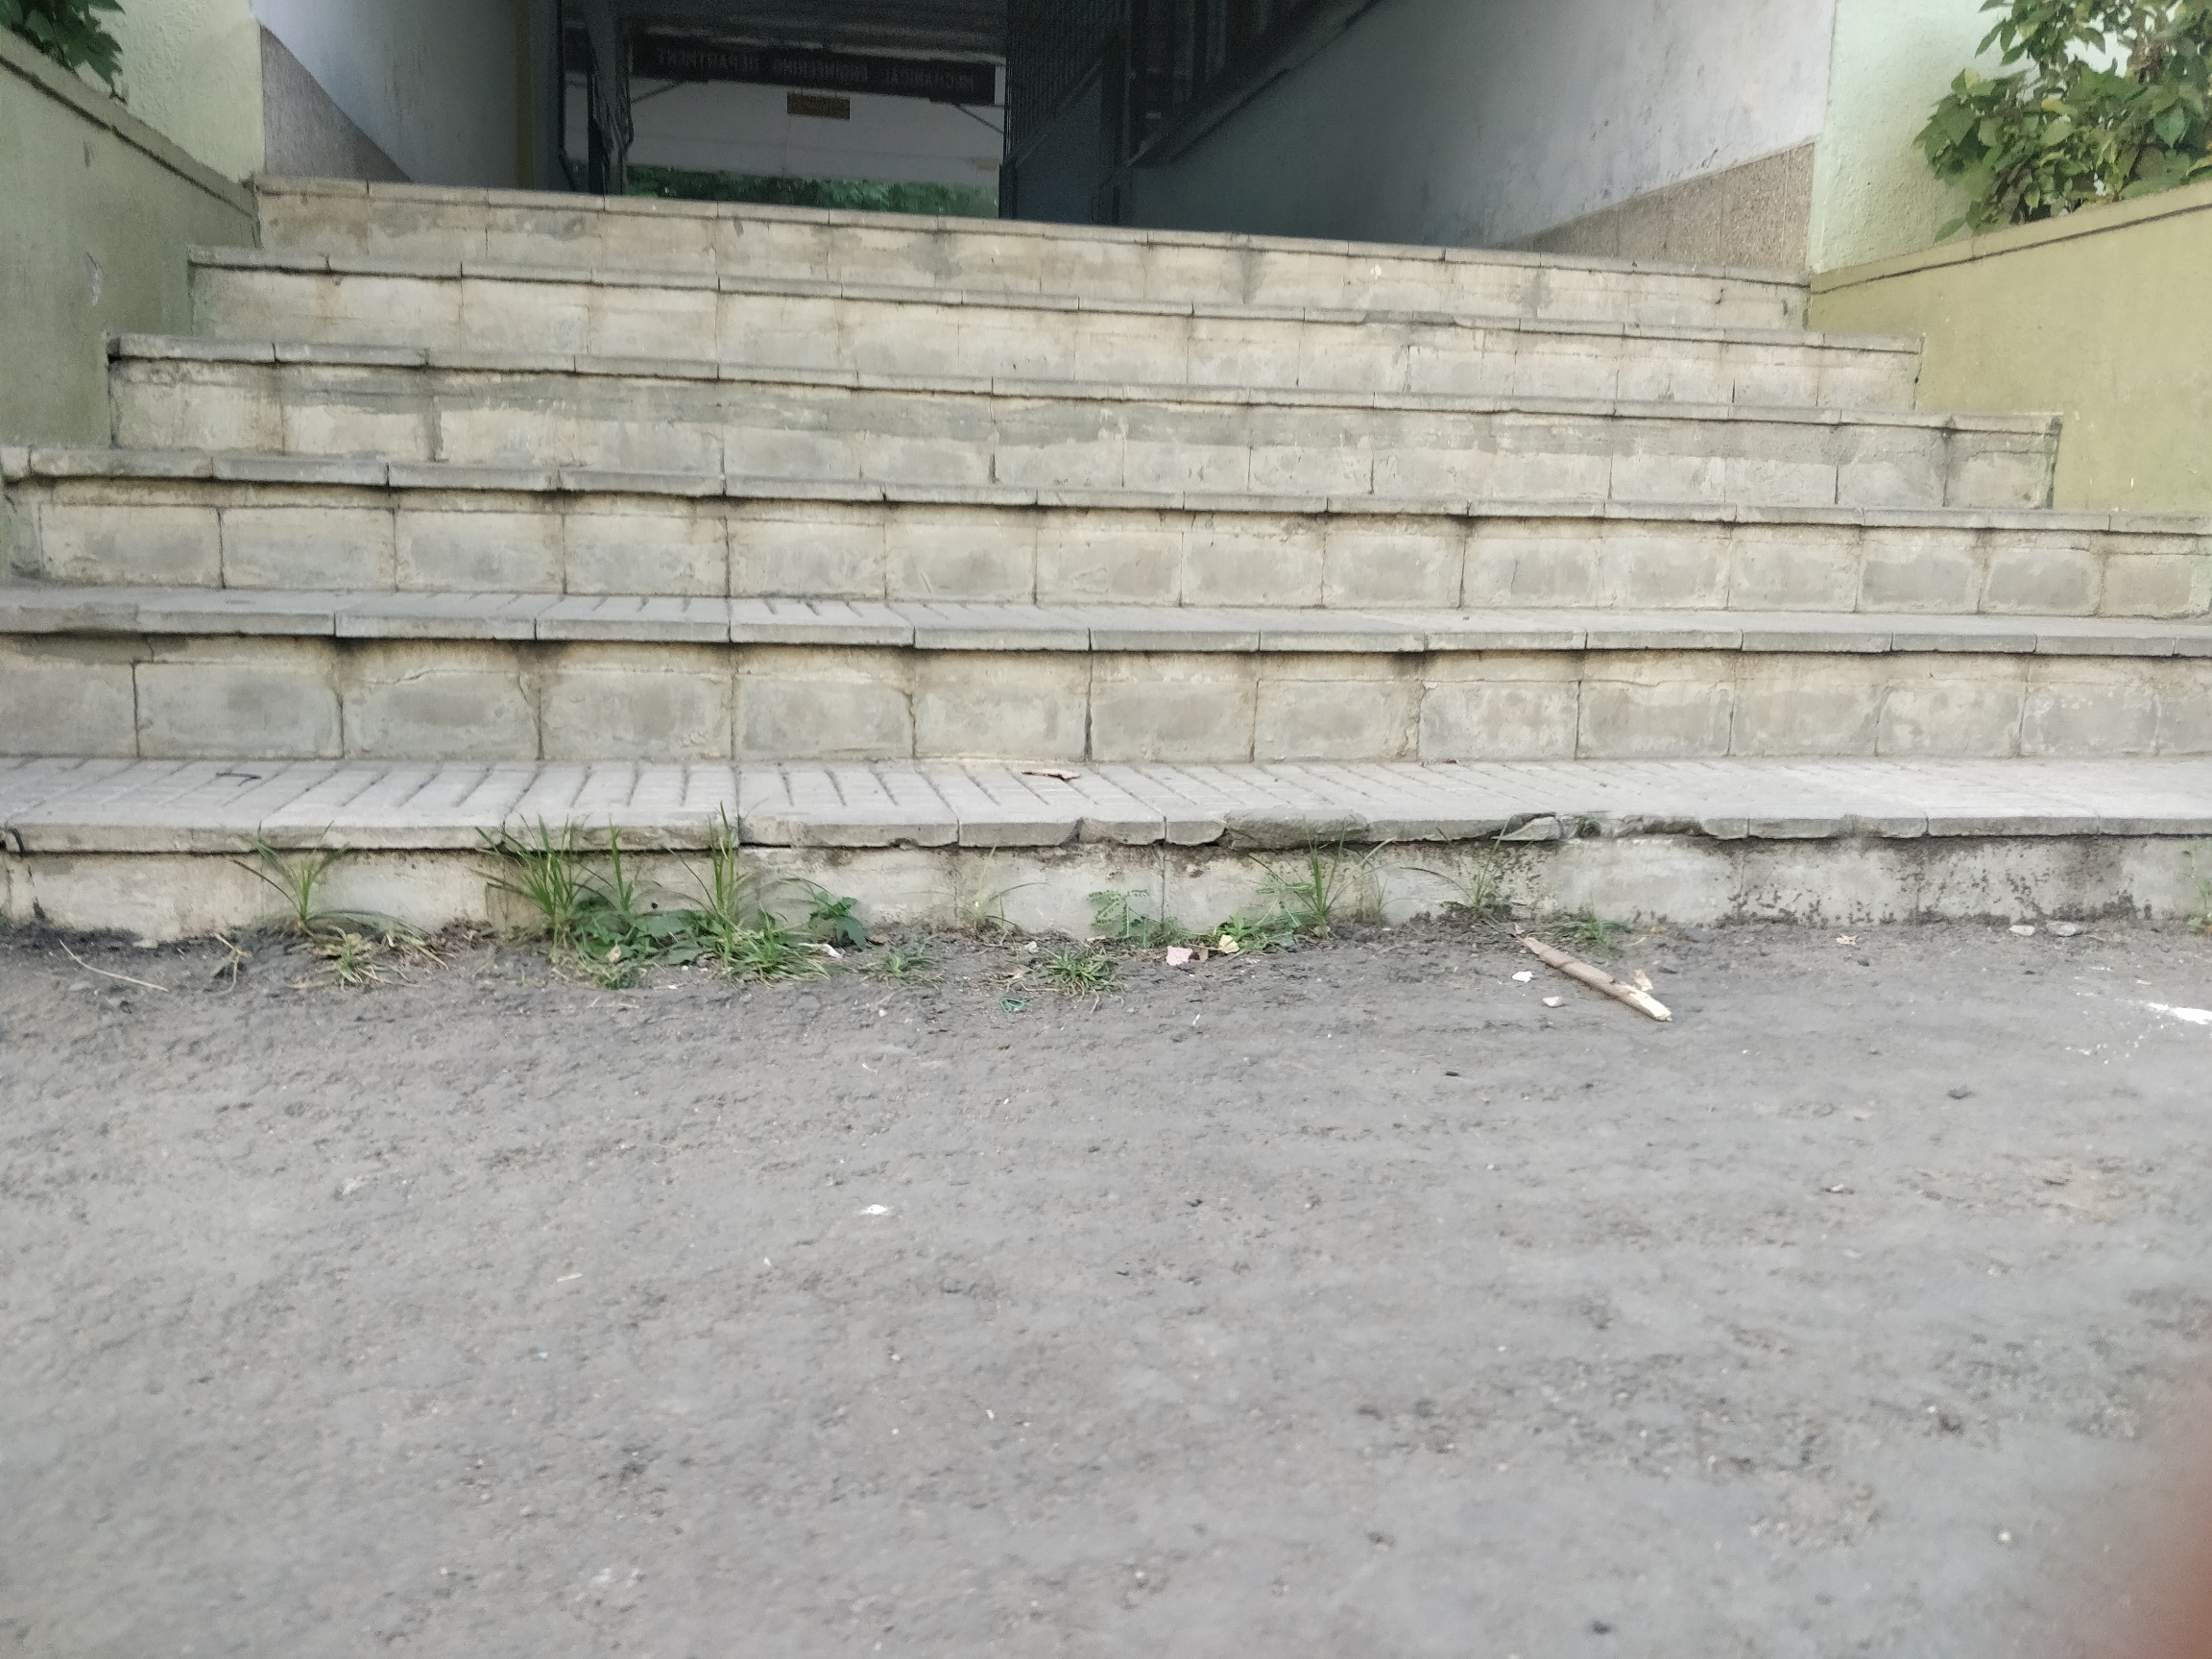stairs_up: (12, 162, 2212, 1012)
